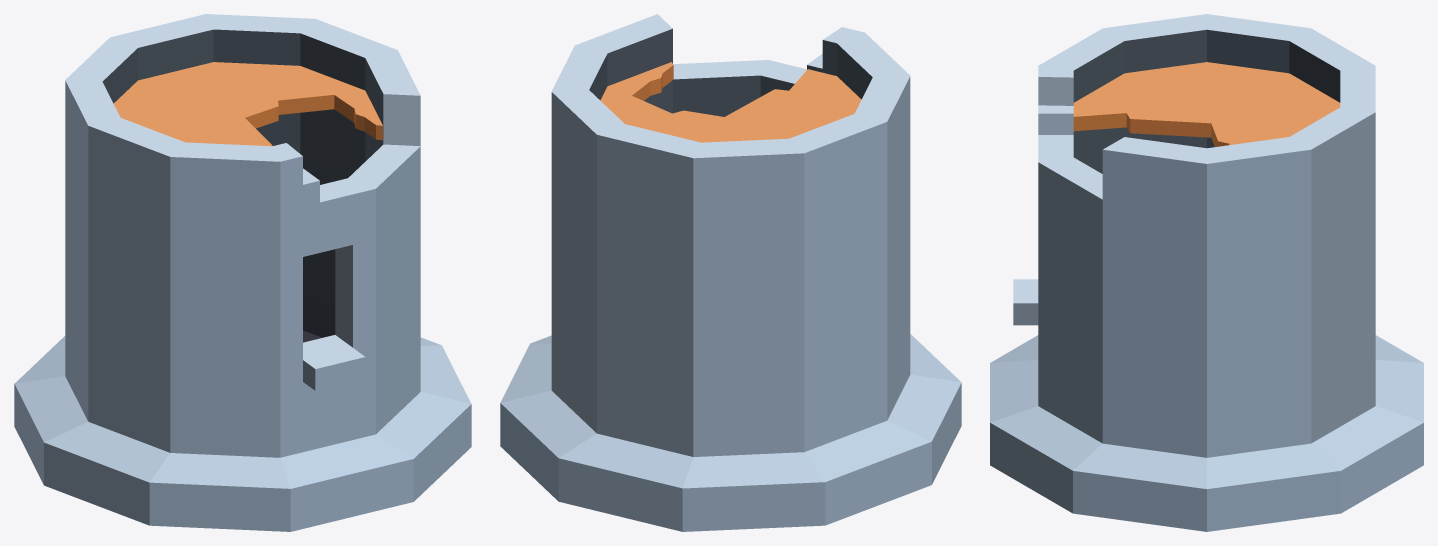
File: clinder_house_B3.fbx
3 renders of one model, left to right at view 1: azimuth 30°, elevation 25°; view 2: azimuth 150°, elevation 25°; view 3: azimuth 270°, elevation 25°, orthographic.
Visible parts, largest first — view 1: clinder_house_B3; view 2: clinder_house_B3; view 3: clinder_house_B3.
Part boxes in pixels (bbox=[...]): clinder_house_B3: bbox=[14, 14, 471, 531]; clinder_house_B3: bbox=[500, 14, 961, 531]; clinder_house_B3: bbox=[990, 14, 1423, 531].
Bounding box in the file's own units: 298 × 250 × 283.
